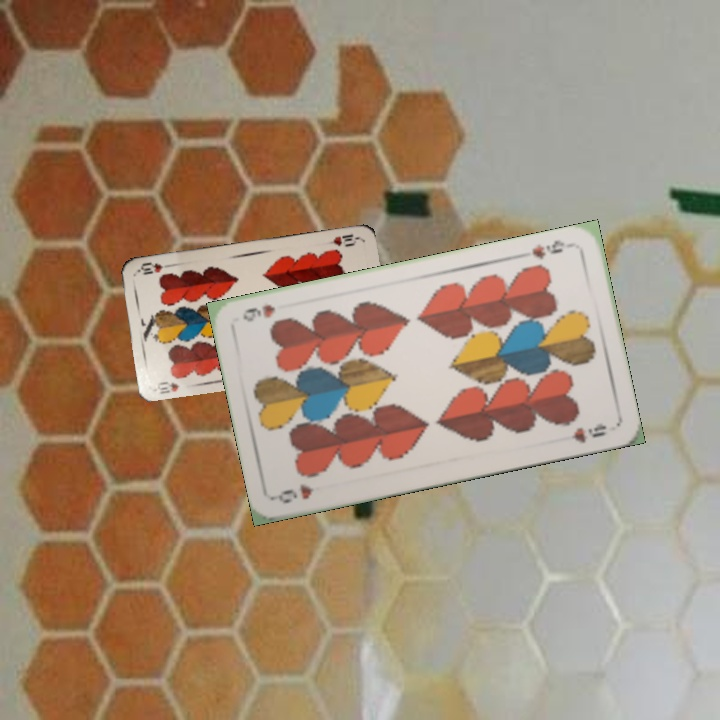H10: (321, 230, 361, 248), (153, 377, 182, 396)
H9: (273, 480, 317, 506), (528, 235, 567, 262)
